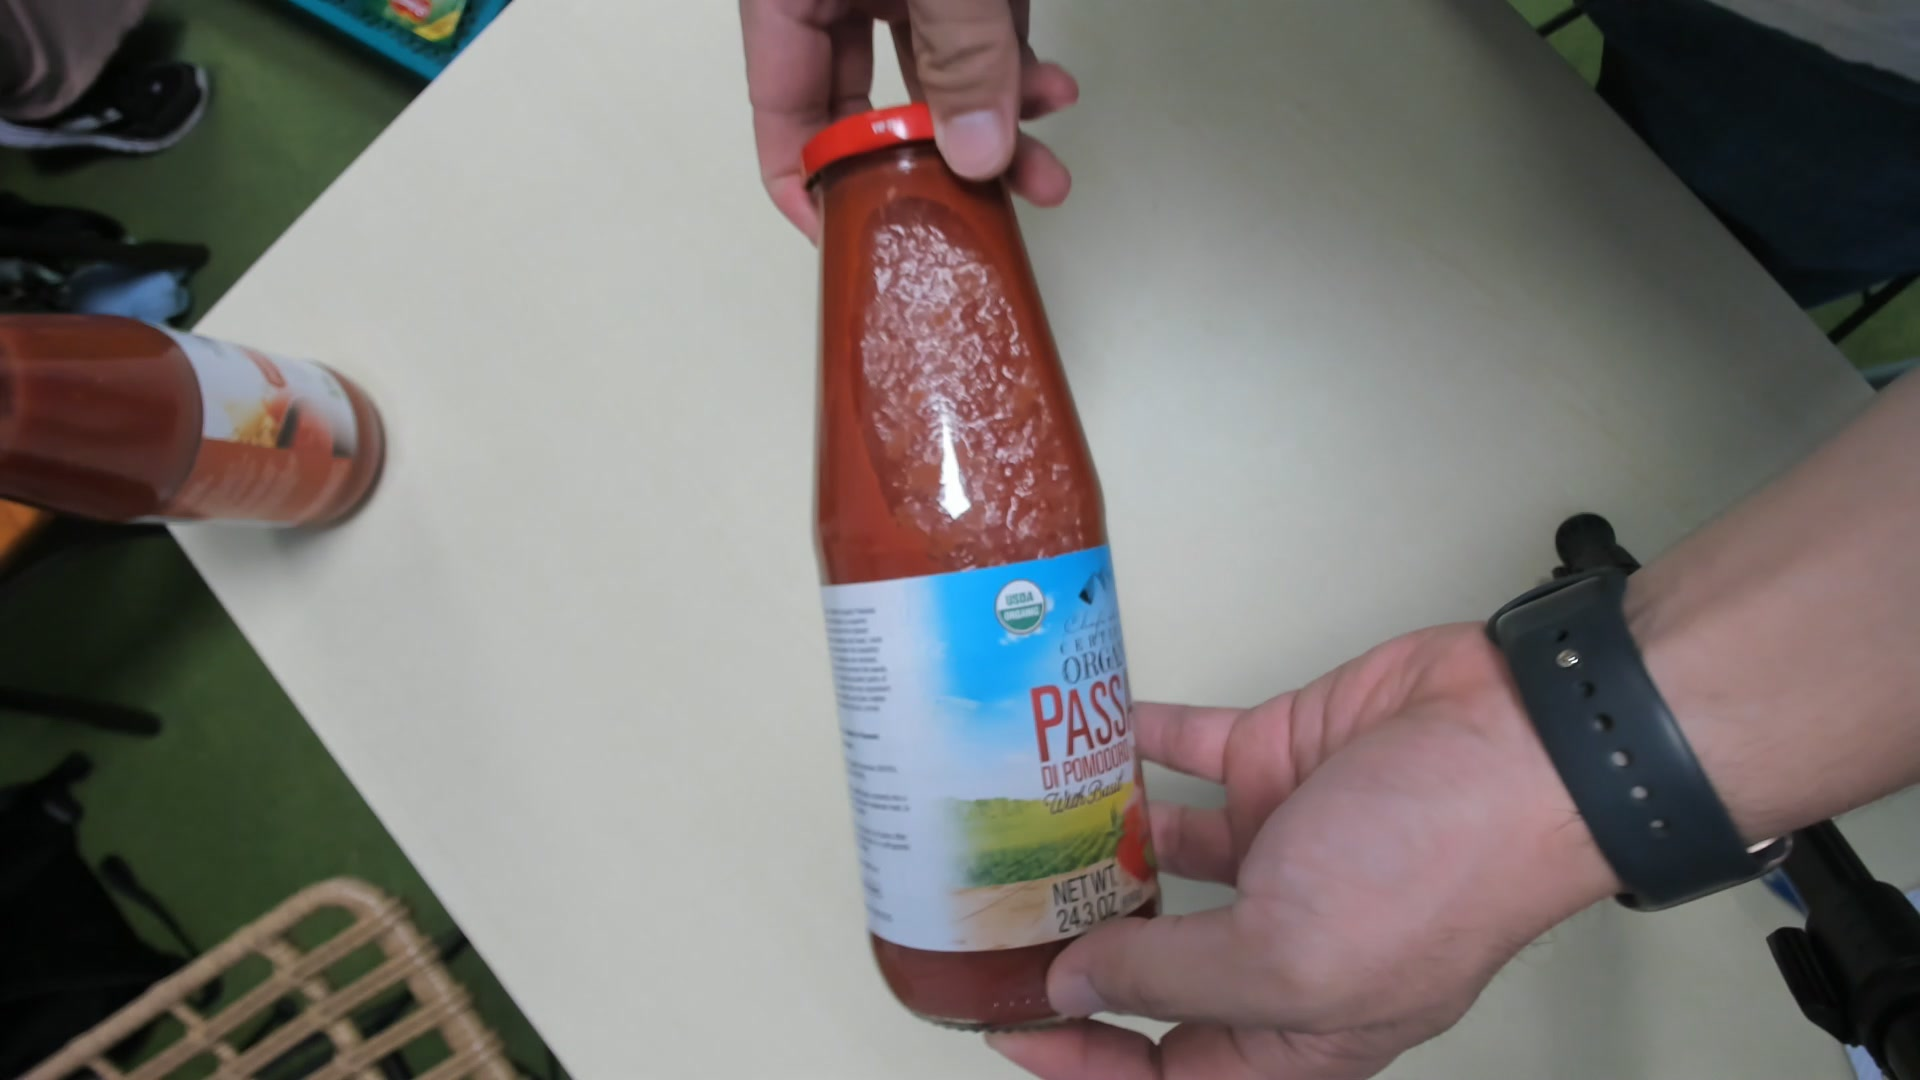PastaSauce_600-699g_NonHalal_NonHealthy: (796, 99, 1163, 1026)
